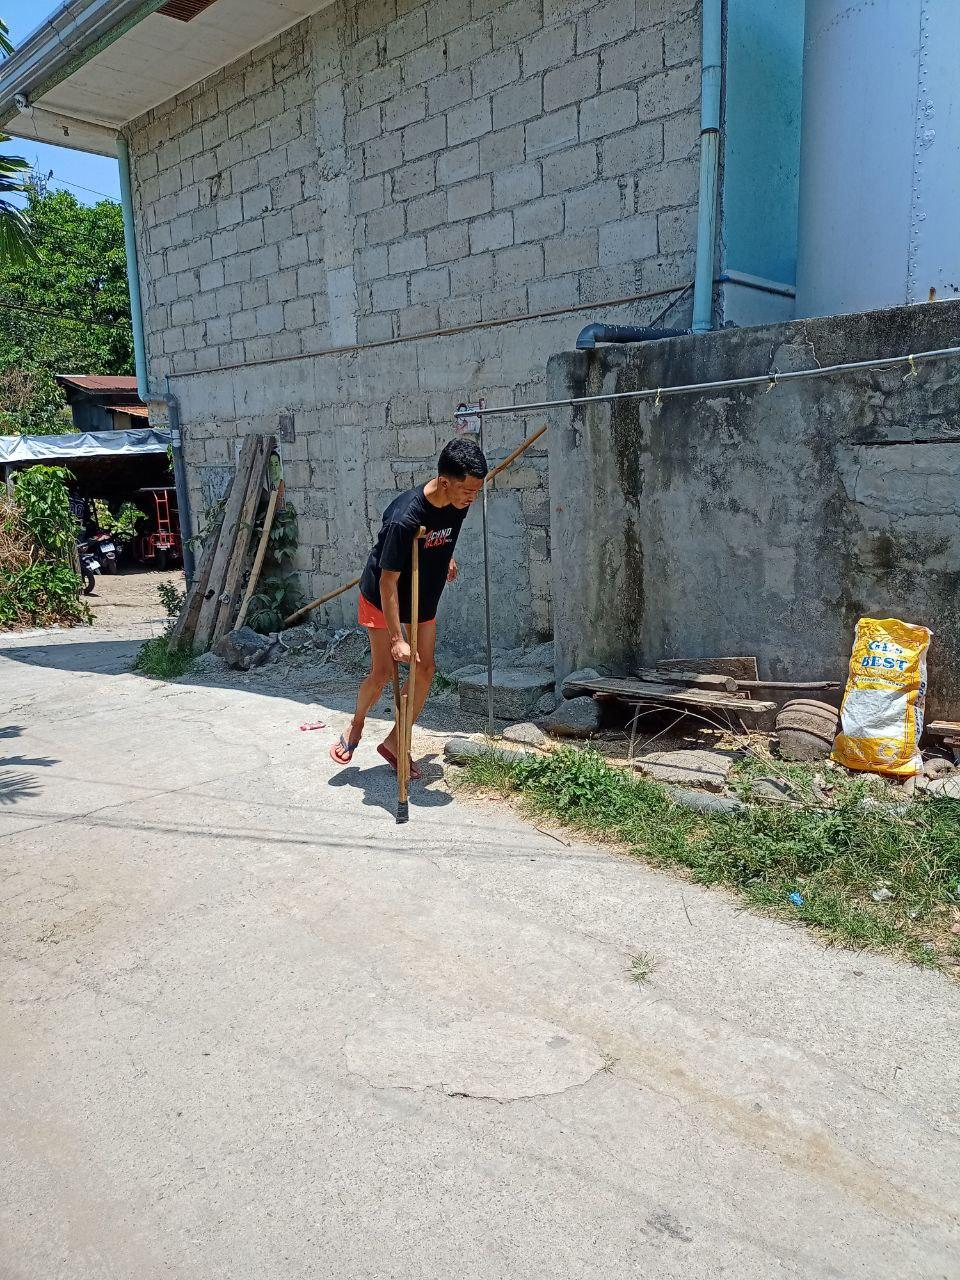crutches: (328, 430, 491, 824)
